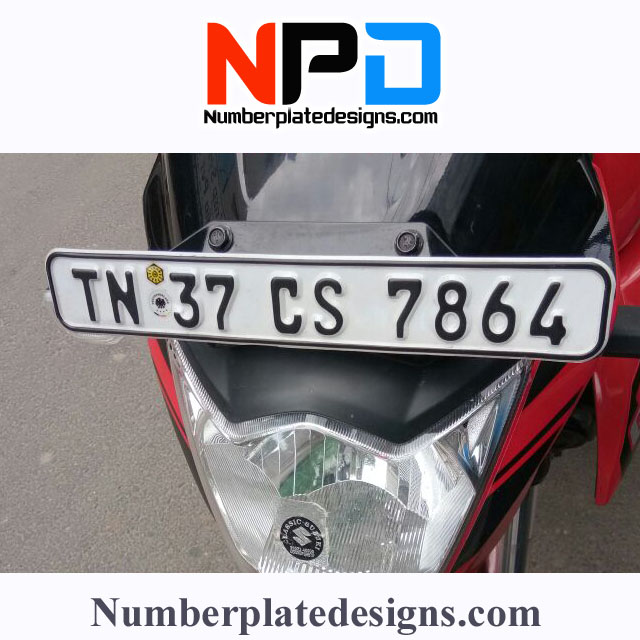numberplate: (42, 247, 615, 360)
